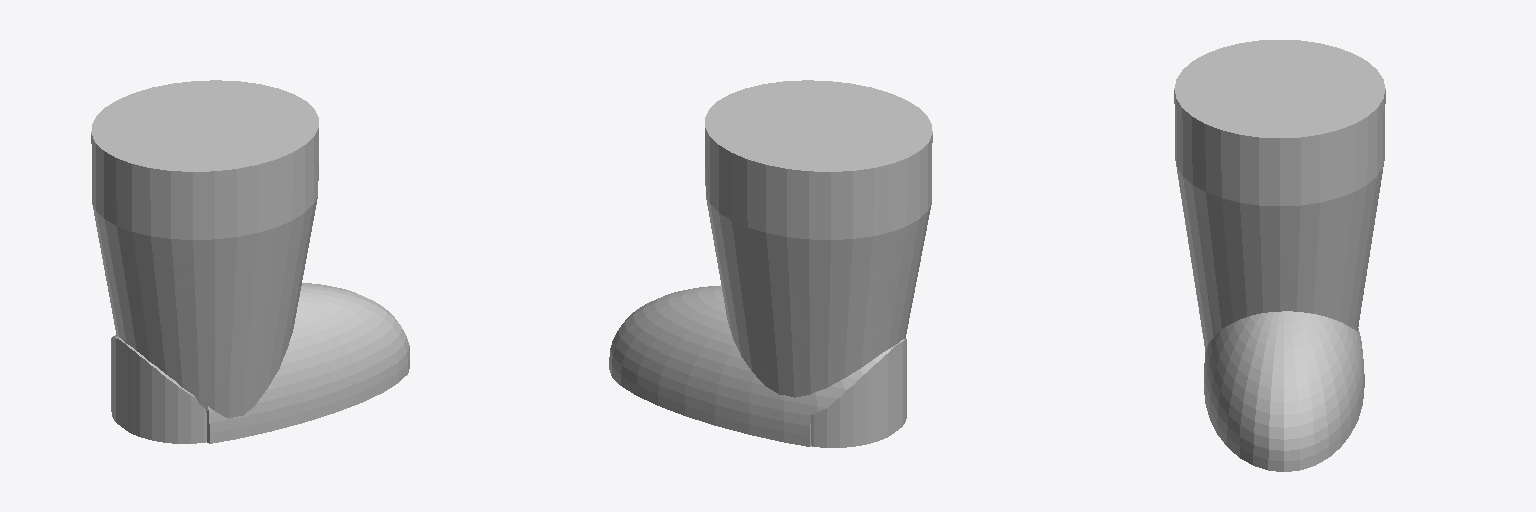
File: pierna_der_abajo.obj
3 renders of one model, left to right at view 1: azimuth 30°, elevation 25°; view 2: azimuth 150°, elevation 25°; view 3: azimuth 270°, elevation 25°, orthographic.
Visible parts, largest first — view 1: pierna_der_abajo:Mesh; view 2: pierna_der_abajo:Mesh; view 3: pierna_der_abajo:Mesh.
Boxes of the visible parts, x1=… form: pierna_der_abajo:Mesh: x1=91, y1=80, x2=409, y2=443; pierna_der_abajo:Mesh: x1=609, y1=80, x2=932, y2=447; pierna_der_abajo:Mesh: x1=1174, y1=40, x2=1385, y2=471.
Bounding box in the file's own units: 0.2509 × 0.2242 × 0.1509.